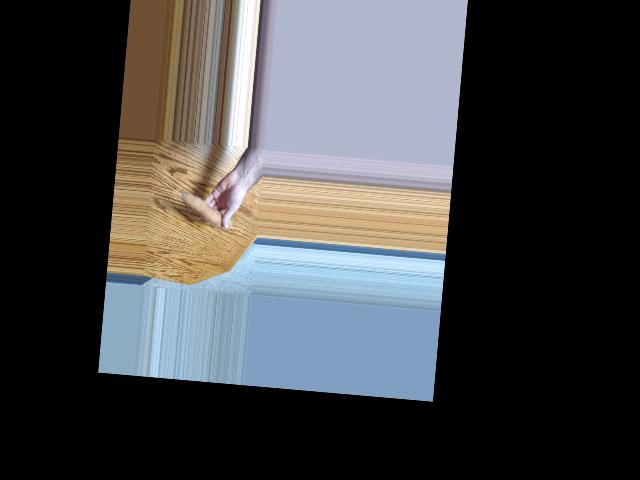sweet_potato: (179, 191, 235, 231)
